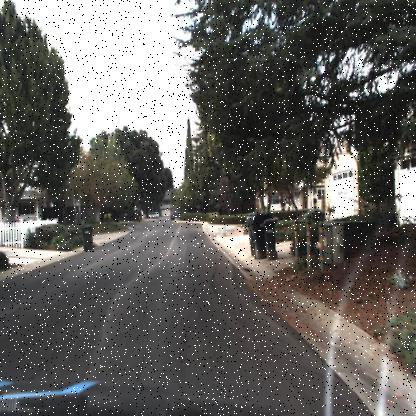car: (170, 205, 182, 221), (152, 212, 157, 219)
